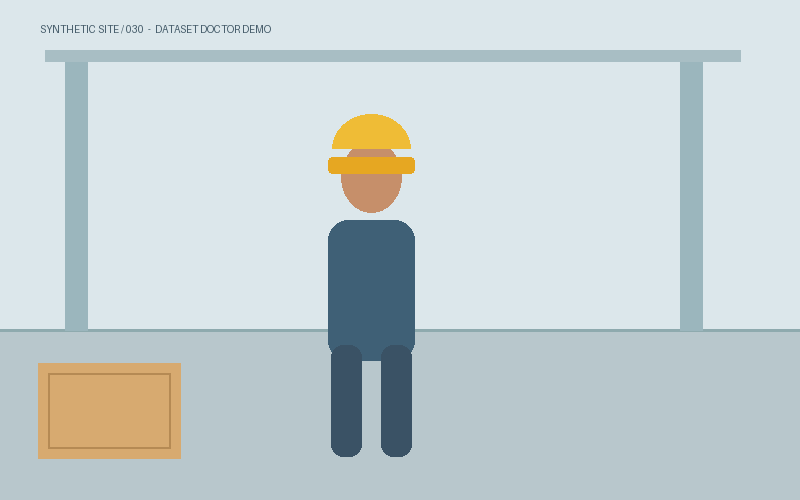Safety-Helmet: (328, 127, 414, 173)
